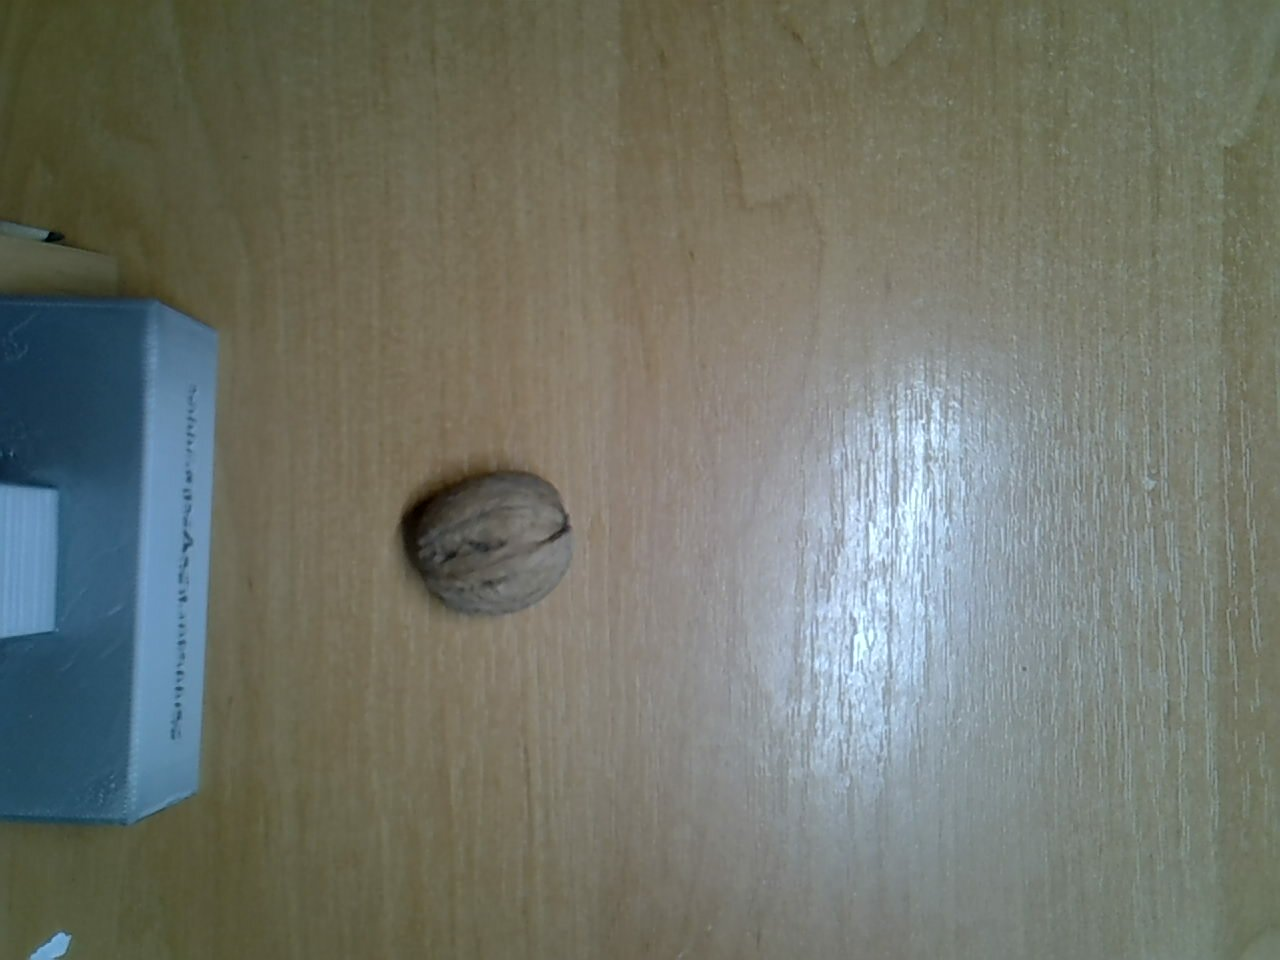nut: (407, 467, 577, 617)
